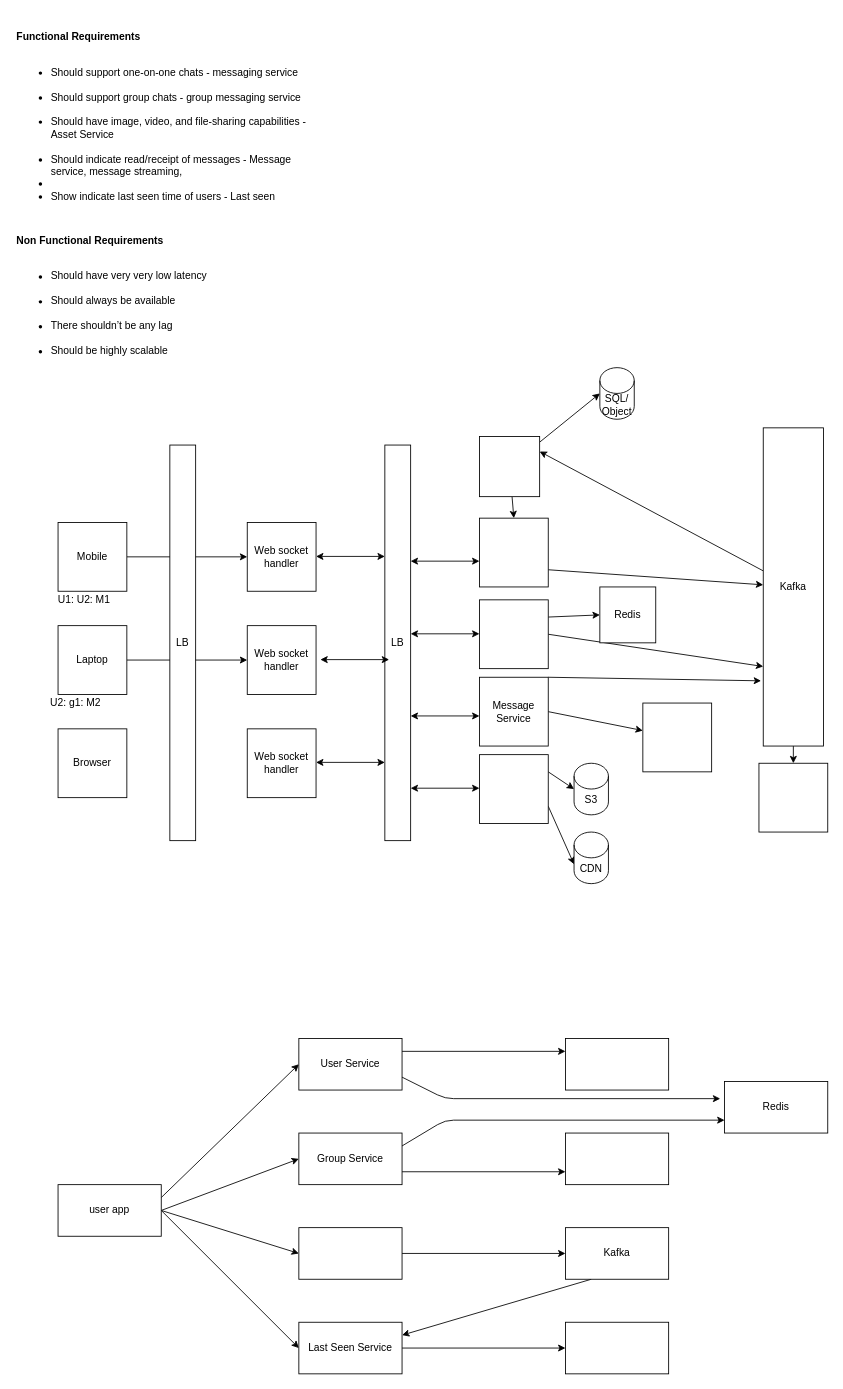
Some shapes in this 843 by 1389 pixel diagram are drawn without their labels. The shapes that lost their labels are listed below. From the top down, each one's box as (x1, y1, x2, y2) in pixels, then its label:
(479, 436, 540, 497): Group Message Service
(479, 517, 548, 587): Group Message Handler
(479, 599, 548, 669): Web Socket Manager
(642, 702, 712, 772): Caassandra/ SQL or Mongo Text Store Message
(479, 754, 548, 823): Asset Service
(758, 762, 828, 832): Hadoop
(565, 1038, 669, 1090): User DB
(565, 1132, 669, 1185): Group DB
(298, 1227, 402, 1279): Analytics Service
(565, 1321, 669, 1374): Cassandra
